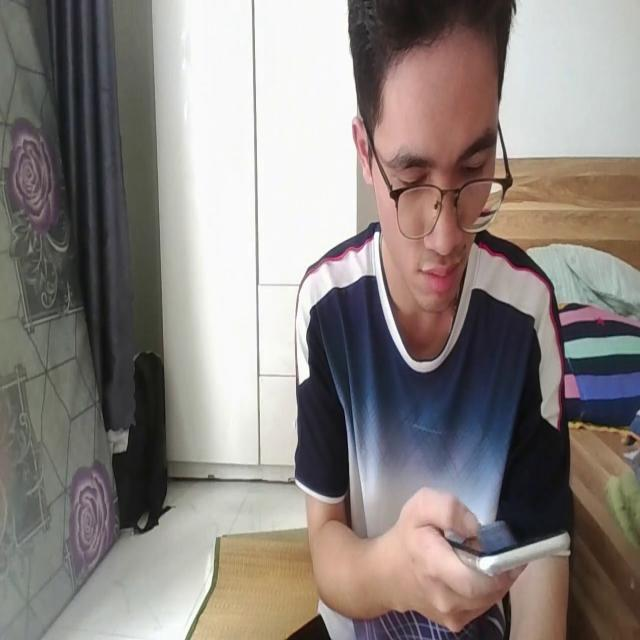phone: (438, 508, 568, 574)
student: (280, 1, 574, 640)
